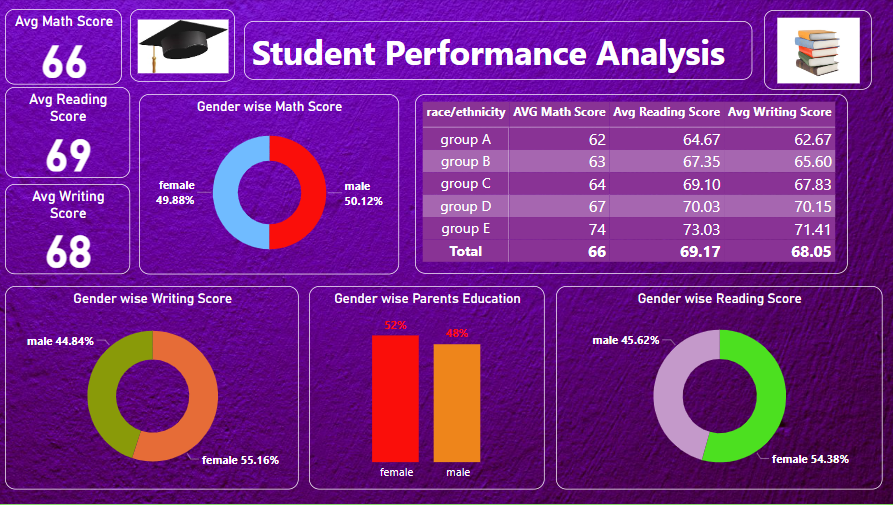

Layout of this report page (visuals, bound fields, positions):
{"tool":"powerbi","page":{"name":"Page 1","canvas":[1280,720],"ordinal":0},"visuals":[{"type":"card","title":"Avg Math Score","fields":{"Values":["StudentsPerformance.AVG Math Score"]},"box":[10.1,13,167,108],"z":0},{"type":"card","title":"Avg Writing Score","fields":{"Values":["StudentsPerformance.Avg Writing Score"]},"box":[10,263.2,178.8,128.7],"z":1000},{"type":"card","title":"Avg Reading Score","fields":{"Values":["StudentsPerformance.Avg Reading Score"]},"box":[10,124.4,178.8,130.1],"z":2000},{"type":"donutChart","title":"Gender wise Math Score","fields":{"Category":["StudentsPerformance.gender"],"Y":["Sum(StudentsPerformance.math score)"]},"box":[201.6,133.9,371.5,257.8],"z":3000},{"type":"donutChart","title":"Gender wise Writing Score","fields":{"Category":["StudentsPerformance.gender"],"Y":["Sum(StudentsPerformance.writing score)"]},"box":[10.1,409,420.5,290.9],"z":4000},{"type":"donutChart","title":"Gender wise Reading Score","fields":{"Category":["StudentsPerformance.gender"],"Y":["Sum(StudentsPerformance.reading score)"]},"box":[797.8,409,466.6,290.9],"z":5000},{"type":"pivotTable","fields":{"Rows":["StudentsPerformance.race/ethnicity"],"Values":["StudentsPerformance.AVG Math Score","StudentsPerformance.Avg Reading Score","StudentsPerformance.Avg Writing Score"]},"box":[596.4,134.4,619.3,257.4],"z":6000},{"type":"columnChart","title":"Gender wise Parents  Education","fields":{"Category":["StudentsPerformance.gender"],"Y":["Divide(CountNonNull(StudentsPerformance.parental level of education), ScopedEval(CountNonNull(StudentsPerformance.parent"]},"box":[445,409,337,290.9],"z":7000},{"type":"textbox","box":[351.4,30.2,727.2,83.5],"z":8000},{"type":"image","box":[188.8,12.9,150.2,104.4],"z":9000},{"type":"image","box":[1095.5,14.3,154.5,114.4],"z":9001}]}

Visuals, with their boxes in screenshot pixels (x1, y1, x2, y2), scaled from the page's 1280x720 canvas onto the 893x505 screenshot:
"Avg Math Score" card: 7:9:124:85
"Avg Writing Score" card: 7:185:132:275
"Avg Reading Score" card: 7:87:132:179
"Gender wise Math Score" donutChart: 141:94:400:275
"Gender wise Writing Score" donutChart: 7:287:300:491
"Gender wise Reading Score" donutChart: 557:287:882:491
pivotTable - StudentsPerformance.race/ethnicity x StudentsPerformance.AVG Math Score: 416:94:848:275
"Gender wise Parents  Education" columnChart: 310:287:546:491
textbox: 245:21:752:80
image: 132:9:237:82
image: 764:10:872:90
